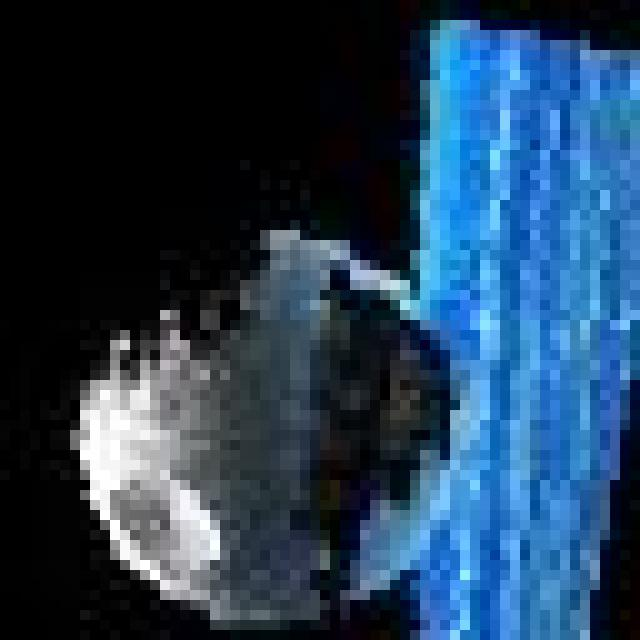Death Star: (72, 218, 495, 640)
